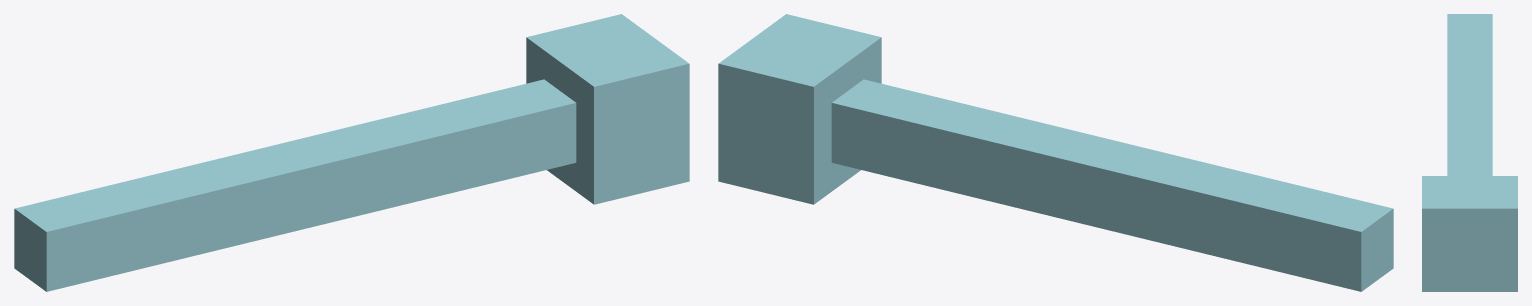
The model's file is cuboid_hammer_v000.obj.
3 renders of one model, left to right at view 1: azimuth 30°, elevation 25°; view 2: azimuth 150°, elevation 25°; view 3: azimuth 270°, elevation 25°, orthographic. The views are drawn at different scales.
Bounding box in the file's own units: 0.314 × 0.0566 × 0.059.
1 material, 1 textured.
